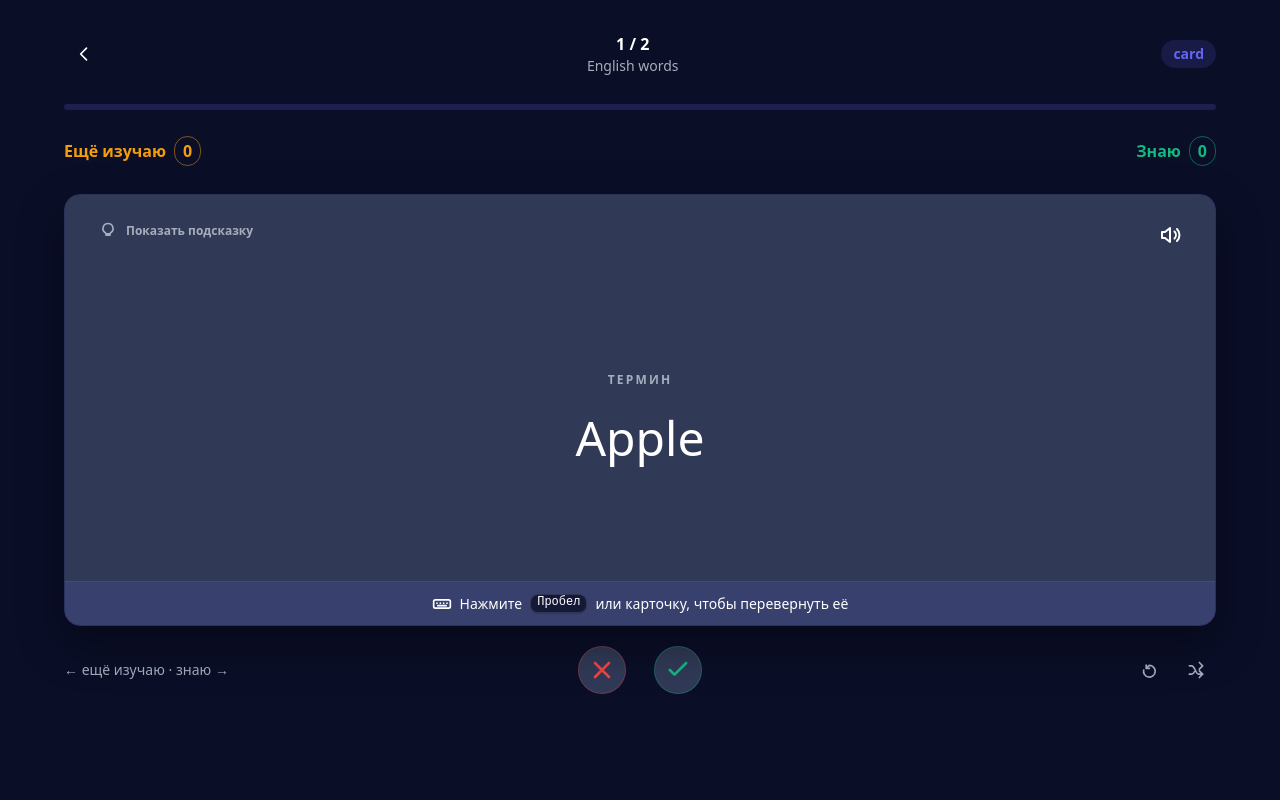
it: CardExercise › reveals a masked hint
Click the button "Показать подсказку". click: (176, 231)
box: x1=89 y1=215 x2=262 y2=247
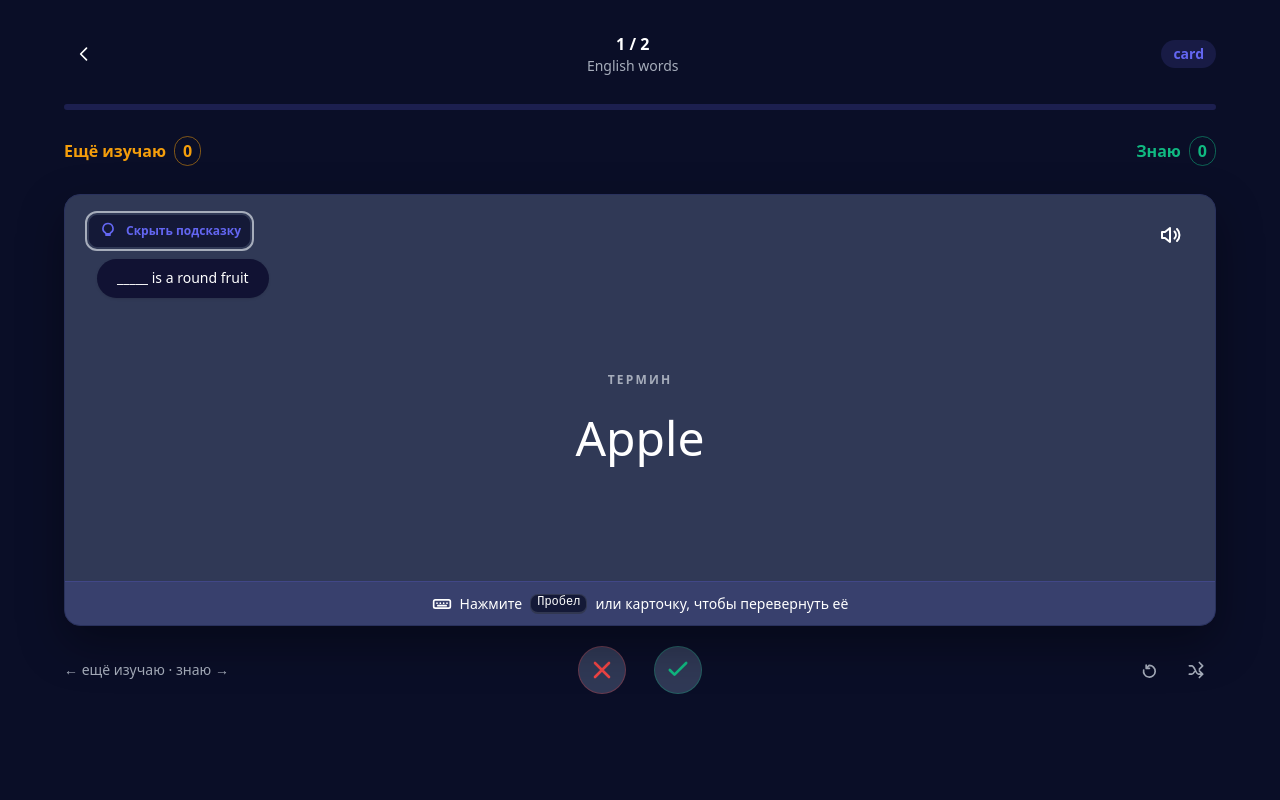
Expected: the text "_____ is a round fruit" is shown, x1=97 y1=259 x2=269 y2=298
